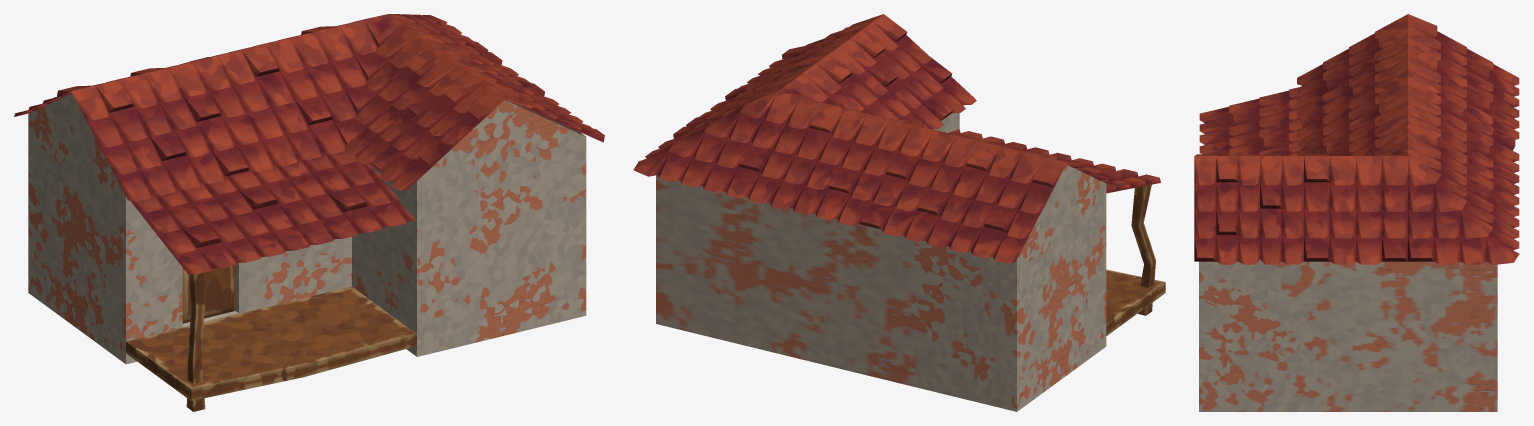
The model's file is HouseBrick.fbx.
3 renders of one model, left to right at view 1: azimuth 30°, elevation 25°; view 2: azimuth 150°, elevation 25°; view 3: azimuth 270°, elevation 25°, orthographic. The views are drawn at different scales.
Parts seen in each view (by area): view 1: HouseBrick; view 2: HouseBrick; view 3: HouseBrick.
Boxes of the visible parts, bbox=[...] form: HouseBrick: bbox=[14, 14, 604, 411]; HouseBrick: bbox=[633, 14, 1165, 411]; HouseBrick: bbox=[1194, 14, 1519, 411].
Bounding box in the file's own units: 749 × 415 × 545.
